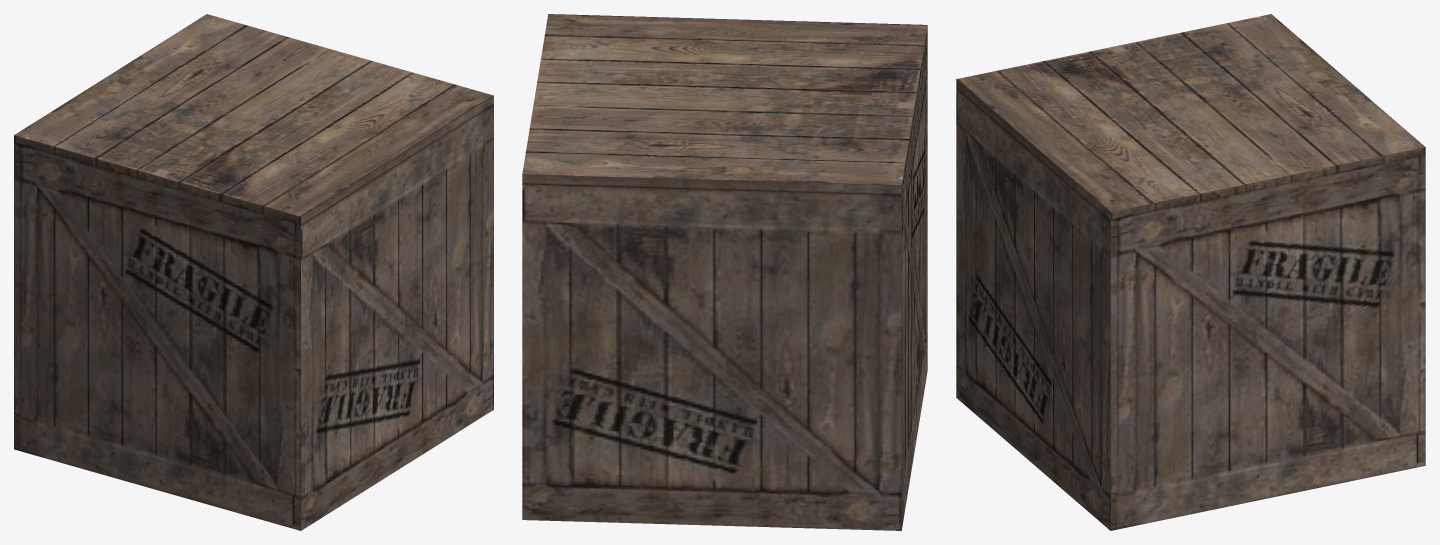
Rendered from Wooden_box_v1_LD1square (8).001.glb.
The picture shows the model from 3 angles, left to right: view 1: azimuth 30°, elevation 25°; view 2: azimuth 150°, elevation 25°; view 3: azimuth 270°, elevation 25°; orthographic projection. The views are drawn at different scales.
Visible parts, largest first — view 1: Wooden_box_v1_LD1square (8).001; view 2: Wooden_box_v1_LD1square (8).001; view 3: Wooden_box_v1_LD1square (8).001.
Part boxes in pixels (x1,y1,x2,y2): Wooden_box_v1_LD1square (8).001: (14, 14, 493, 530); Wooden_box_v1_LD1square (8).001: (522, 14, 927, 530); Wooden_box_v1_LD1square (8).001: (956, 14, 1425, 530).
Size of the model in its own units: 1.08 by 0.8124 by 1.08.
Materials: 1 (1 with a texture image).
